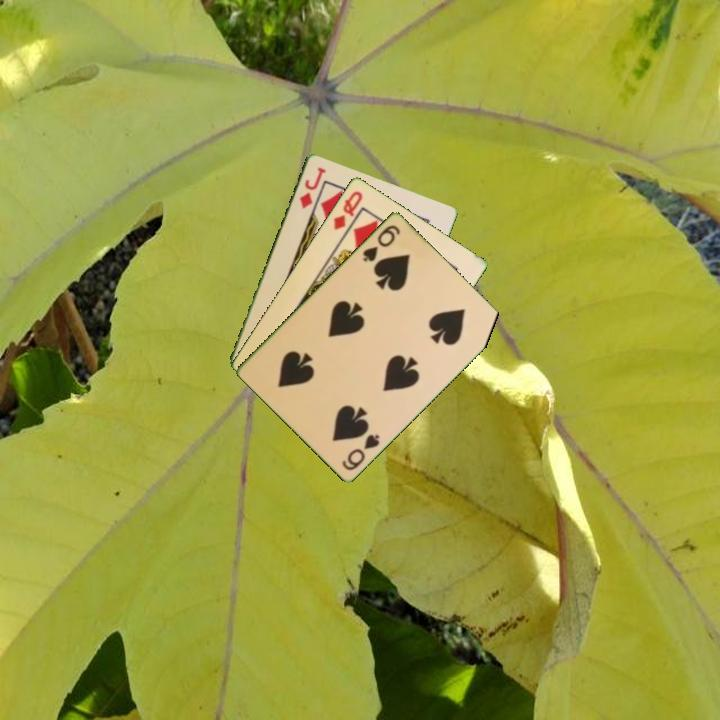6s: (359, 221, 403, 265), (338, 430, 383, 473)
Jd: (296, 163, 329, 211)
Qd: (329, 187, 365, 233)
